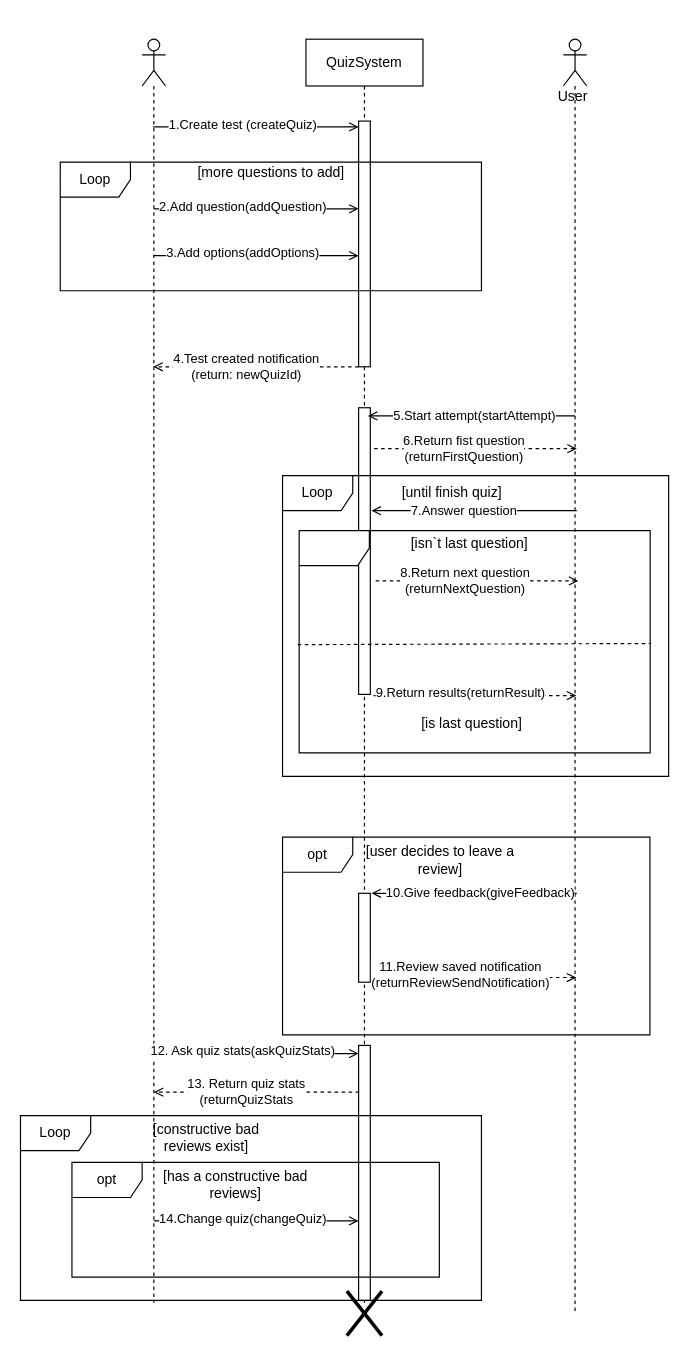
Some shapes in this 689 by 1357 pixel diagram are drawn without their labels. Here are the shapes that lost their labels. From the top down, the box of each, then its label:
(298, 529, 650, 753): alt
(141, 38, 166, 1303): Author
